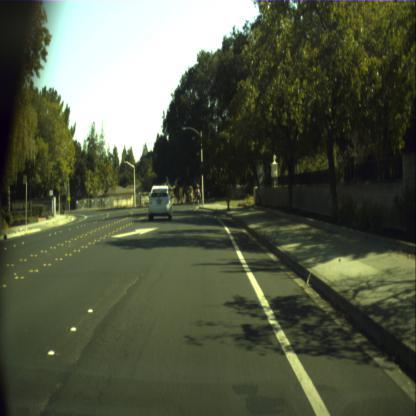off: (182, 128, 186, 144)
